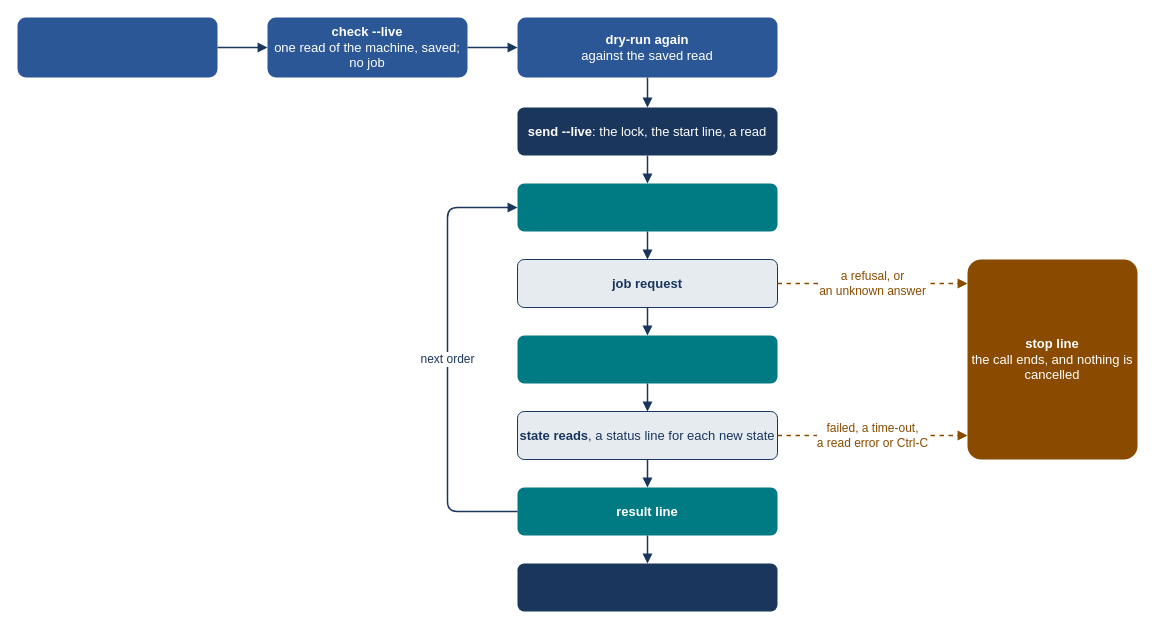
The diagram is 1154 pixels wide and 628 high, and some of its shapes have lost their labels. Here are the shapes that lost their labels. From the top down, the centre of each, then its label:
(x=117, y=47): dry-run manifest, files, SHA-256, shots; offline
(x=647, y=207): submitting line , on disk first
(x=647, y=359): submitted line , with the job id
(x=647, y=587): end line , after the last order
